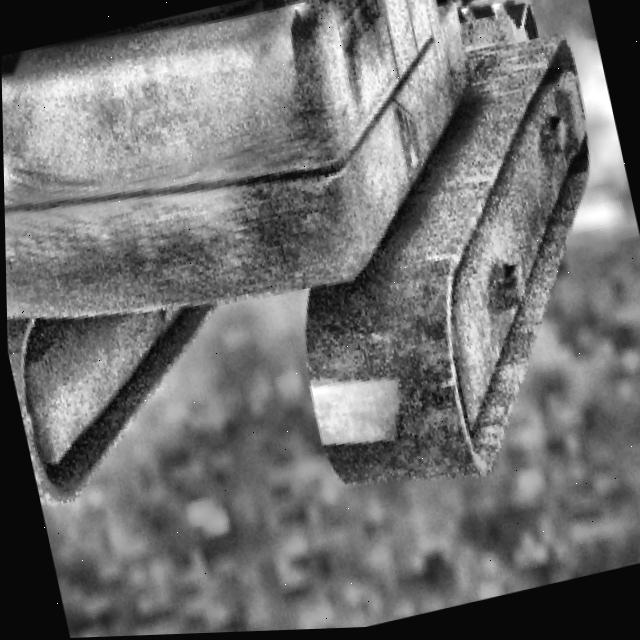excavator: (0, 0, 640, 577)
